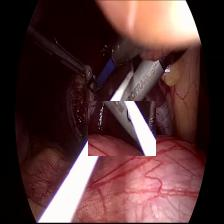Bipolar: (88, 42, 122, 96)
Grasper: (88, 101, 156, 156), (38, 31, 86, 83)
